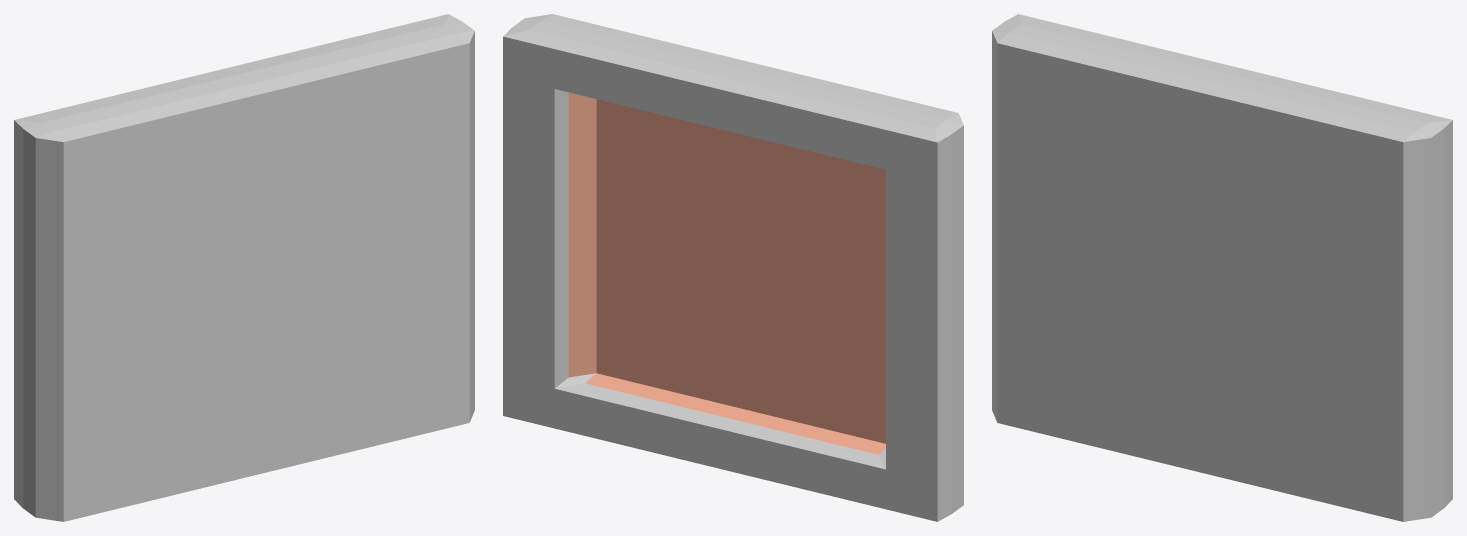
The model's file is Picture_3.fbx.
The picture shows the model from 3 angles, left to right: view 1: azimuth 30°, elevation 25°; view 2: azimuth 150°, elevation 25°; view 3: azimuth 330°, elevation 25°; orthographic projection.
Parts seen in each view (by area): view 1: Picture 3; view 2: Picture 3; view 3: Picture 3.
Boxes of the visible parts, x1,y1,x2,y2 form: Picture 3: (14, 14, 474, 521); Picture 3: (503, 14, 963, 521); Picture 3: (992, 14, 1452, 521).
Size of the model in its own units: 84 by 70.01 by 11.71.
